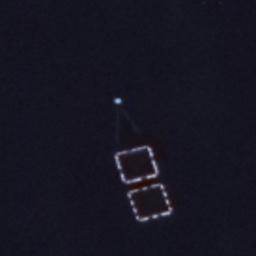square_solid: (124, 180, 177, 224), (111, 143, 162, 187)
